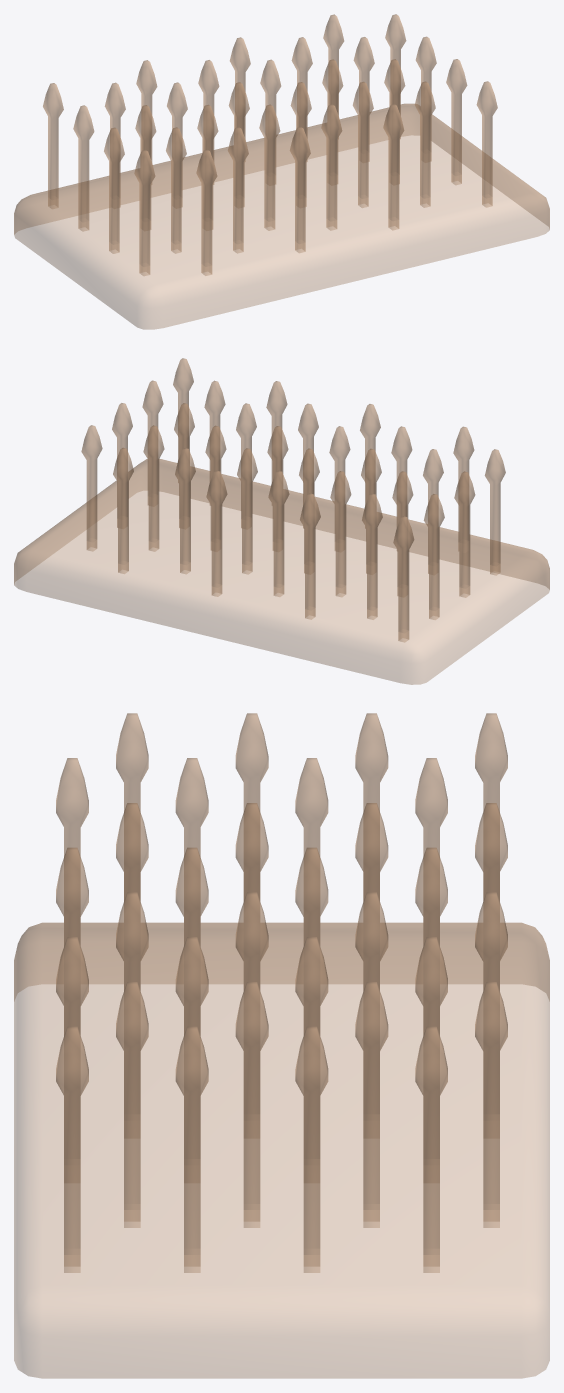
File: Field_1.fbx
3 views of the same model, one above another, from view 1: azimuth 30°, elevation 25°; view 2: azimuth 150°, elevation 25°; view 3: azimuth 270°, elevation 25° (orthographic). The views are drawn at different scales.
Visible parts, largest first — view 1: Field_1; view 2: Field_1; view 3: Field_1.
Boxes of the visible parts, x1,y1,x2,y2 form: Field_1: (14, 14, 549, 329); Field_1: (14, 358, 549, 684); Field_1: (14, 713, 549, 1378).
Bounding box in the file's own units: 2.11 × 0.7458 × 1.21.
